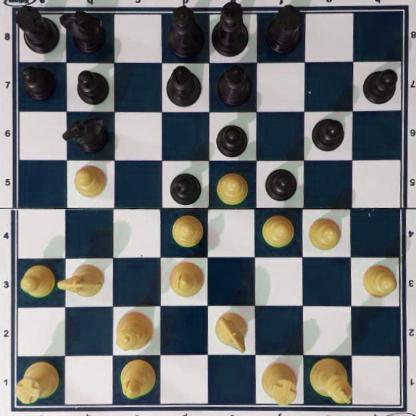black-bishop: (165, 65, 203, 107), (218, 65, 253, 106)
black-king: (214, 1, 248, 59)
black-knight: (59, 10, 108, 55), (66, 116, 107, 154)
black-pawn: (363, 67, 398, 104), (21, 64, 56, 99), (311, 116, 345, 151), (217, 120, 249, 156), (265, 165, 297, 201), (76, 67, 107, 104), (170, 170, 202, 204)
black-queen: (165, 5, 205, 57)
black-rook: (14, 4, 59, 54), (264, 3, 306, 55)
white-bishop: (119, 358, 154, 400), (169, 259, 205, 296)
white-king: (308, 357, 353, 405)
white-knight: (56, 263, 106, 300), (214, 311, 250, 353)
white-pawn: (360, 262, 397, 299), (73, 162, 108, 199), (308, 213, 342, 251), (261, 213, 294, 247), (20, 265, 56, 296), (215, 171, 249, 203), (171, 213, 203, 247)
white-queen: (116, 308, 152, 353)
white-rook: (14, 360, 59, 403), (261, 363, 299, 405)
